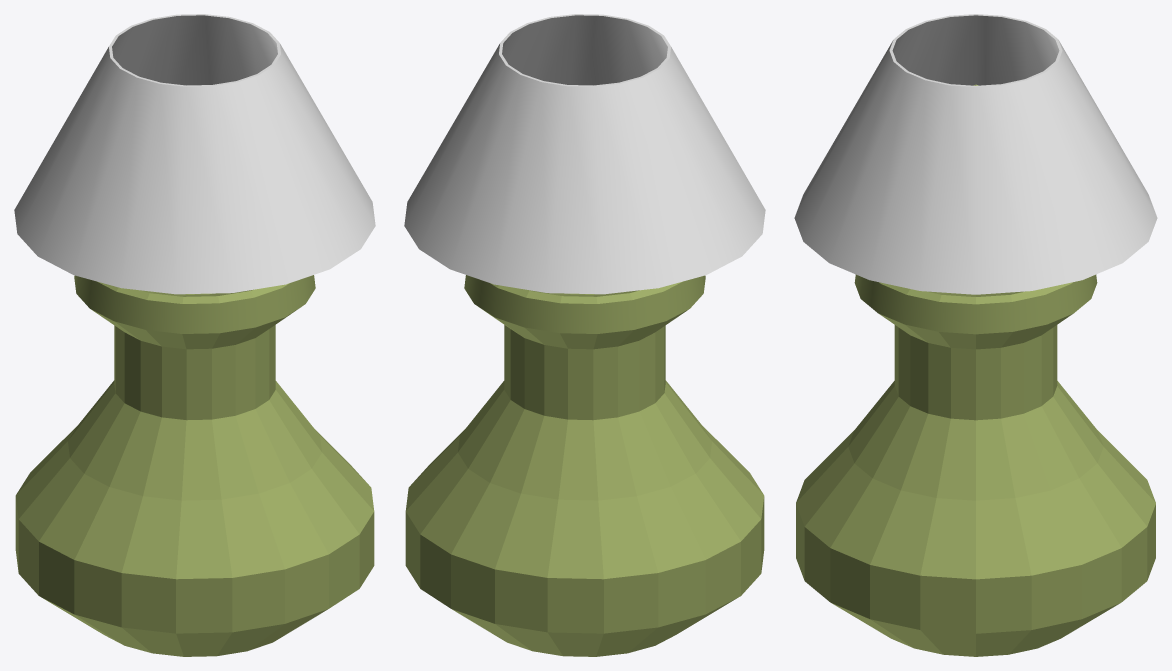
File: small lamp_export.fbx
3 views of the same model, side by side, from view 1: azimuth 30°, elevation 25°; view 2: azimuth 150°, elevation 25°; view 3: azimuth 270°, elevation 25° (orthographic).
Visible parts, largest first — view 1: lamp_part_small, lampshade_small; view 2: lamp_part_small, lampshade_small; view 3: lamp_part_small, lampshade_small.
Boxes of the visible parts, left/top/right/bottom form: lamp_part_small: left=15, top=275, right=374, bottom=656; lampshade_small: left=14, top=14, right=375, bottom=294; lamp_part_small: left=405, top=275, right=764, bottom=656; lampshade_small: left=404, top=14, right=765, bottom=294; lamp_part_small: left=796, top=84, right=1155, bottom=656; lampshade_small: left=794, top=14, right=1157, bottom=294.
Size of the model in its own units: 1.51 by 2.58 by 1.51.
